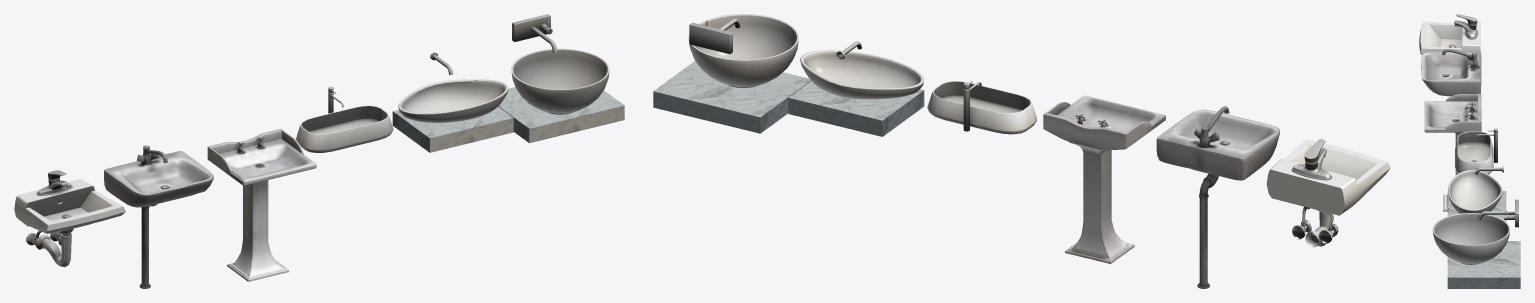
Rendered from Sinks.fbx.
3 views of the same model, side by side, from view 1: azimuth 30°, elevation 25°; view 2: azimuth 150°, elevation 25°; view 3: azimuth 270°, elevation 25° (orthographic). The views are drawn at different scales.
Visible parts, largest first — view 1: round_sink, sink_2, premium sink, basic sink, sink_1, average sink; view 2: round_sink, premium sink, sink_2, sink_1, basic sink, average sink; view 3: round_sink, sink_1, premium sink, sink_2, basic sink, average sink.
Part boxes in pixels (x1=…): round_sink: x1=498, y1=14, x2=624, y2=143; sink_2: x1=207, y1=129, x2=316, y2=281; premium sink: x1=392, y1=52, x2=513, y2=152; basic sink: x1=14, y1=170, x2=125, y2=267; sink_1: x1=104, y1=145, x2=213, y2=288; average sink: x1=295, y1=86, x2=393, y2=152; round_sink: x1=653, y1=14, x2=811, y2=133; premium sink: x1=788, y1=41, x2=924, y2=136; sink_2: x1=1043, y1=95, x2=1165, y2=263; sink_1: x1=1156, y1=106, x2=1279, y2=288; basic sink: x1=1266, y1=139, x2=1390, y2=247; average sink: x1=927, y1=81, x2=1036, y2=134; round_sink: x1=1432, y1=199, x2=1520, y2=288; sink_1: x1=1421, y1=49, x2=1481, y2=96; premium sink: x1=1447, y1=166, x2=1506, y2=221; sink_2: x1=1424, y1=94, x2=1481, y2=211; basic sink: x1=1419, y1=14, x2=1480, y2=54; average sink: x1=1455, y1=128, x2=1497, y2=174.
Bounding box in the file's own units: 4.84 × 1.15 × 0.9093.
